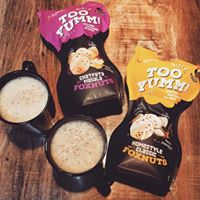tooyumm: (138, 64, 192, 95), (57, 8, 102, 40)
wrapper: (108, 59, 199, 177), (46, 4, 119, 110)
